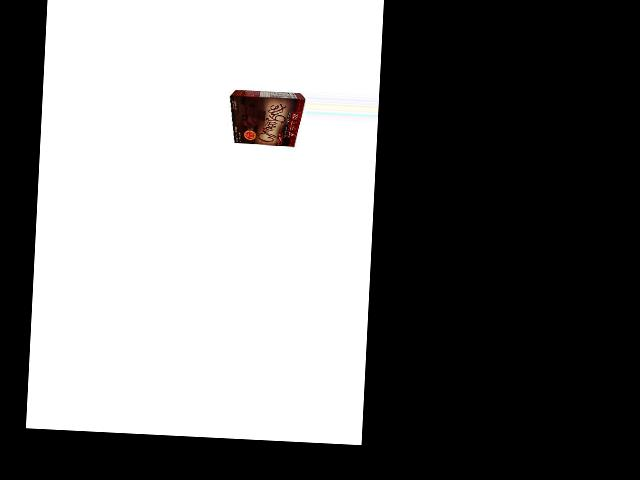chocolate: (227, 89, 303, 148)
